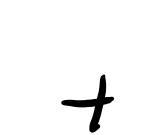plus: (61, 74, 115, 133)
